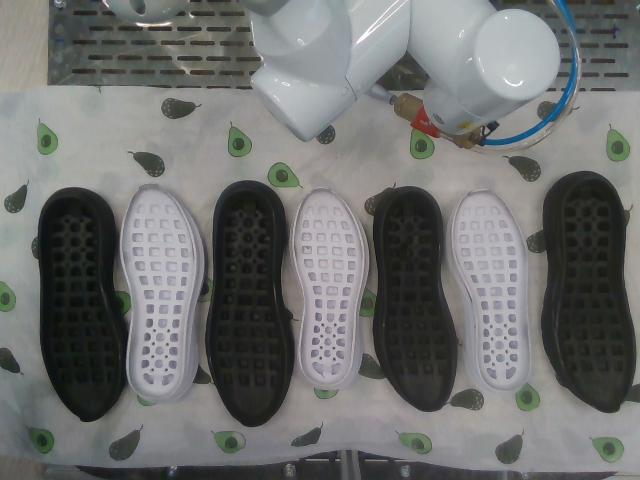shoes: (210, 190, 286, 426), (557, 179, 634, 411), (40, 196, 119, 421), (122, 184, 196, 399), (383, 191, 453, 411), (454, 190, 530, 390), (294, 187, 363, 385)
